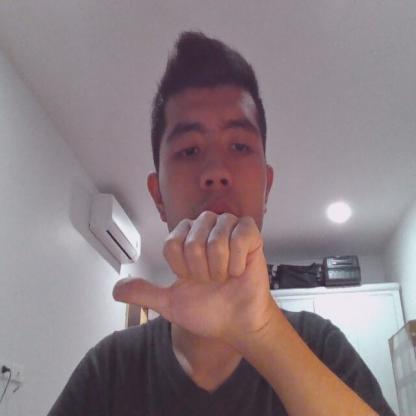right: (114, 210, 268, 342)
